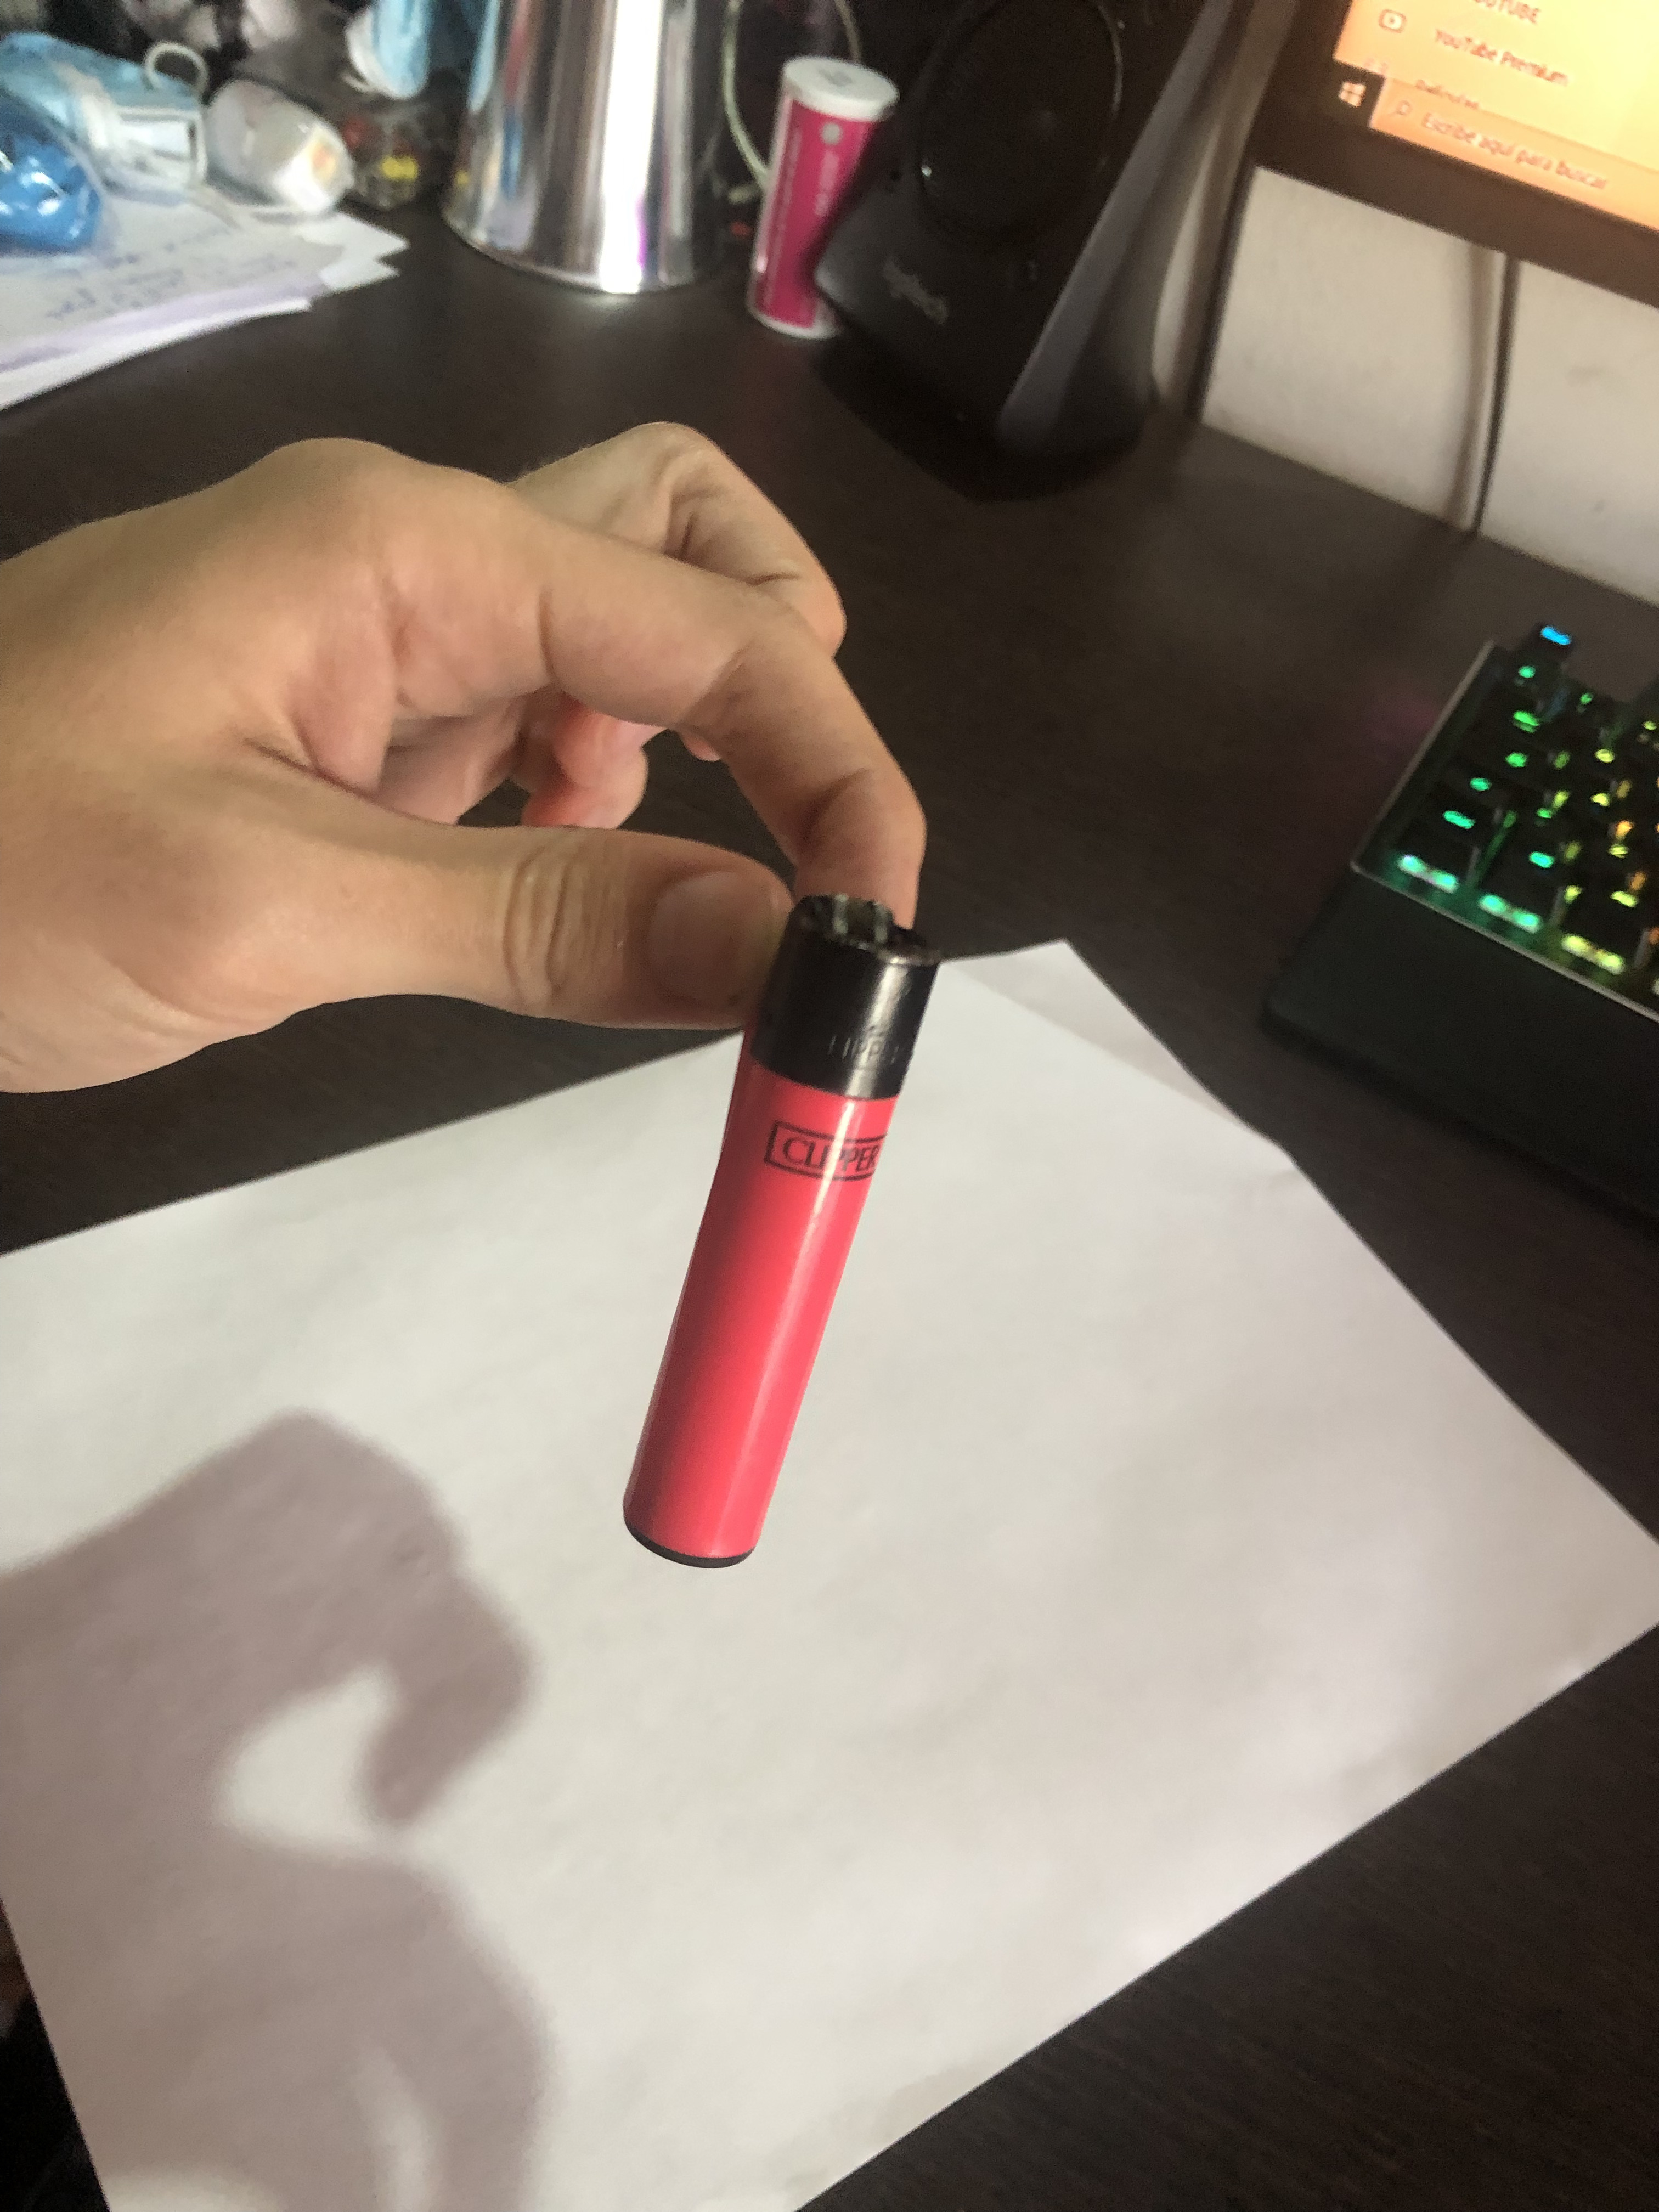Mechero: (599, 885, 974, 1569)
